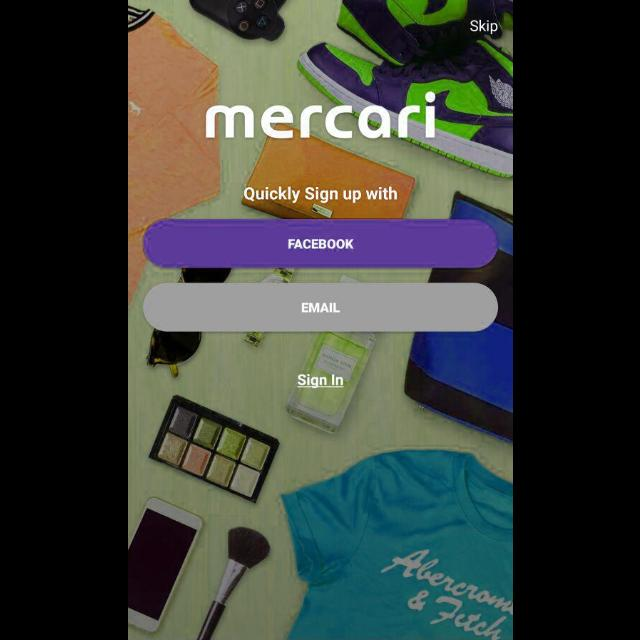backgroundimage: (128, 1, 512, 640)
text: (205, 92, 435, 138), (243, 186, 397, 204), (296, 374, 344, 388), (469, 19, 497, 35)
textbutton: (142, 284, 498, 332), (143, 220, 497, 268)
